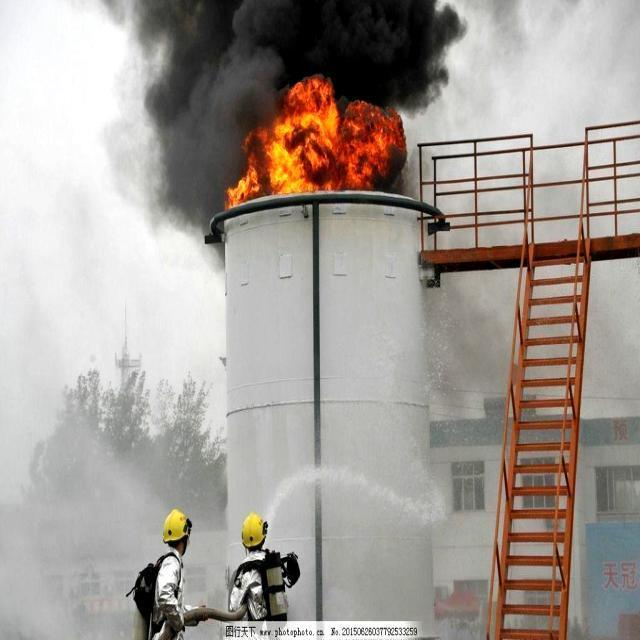Fire: (225, 75, 410, 224)
Smoke: (100, 0, 471, 242)
